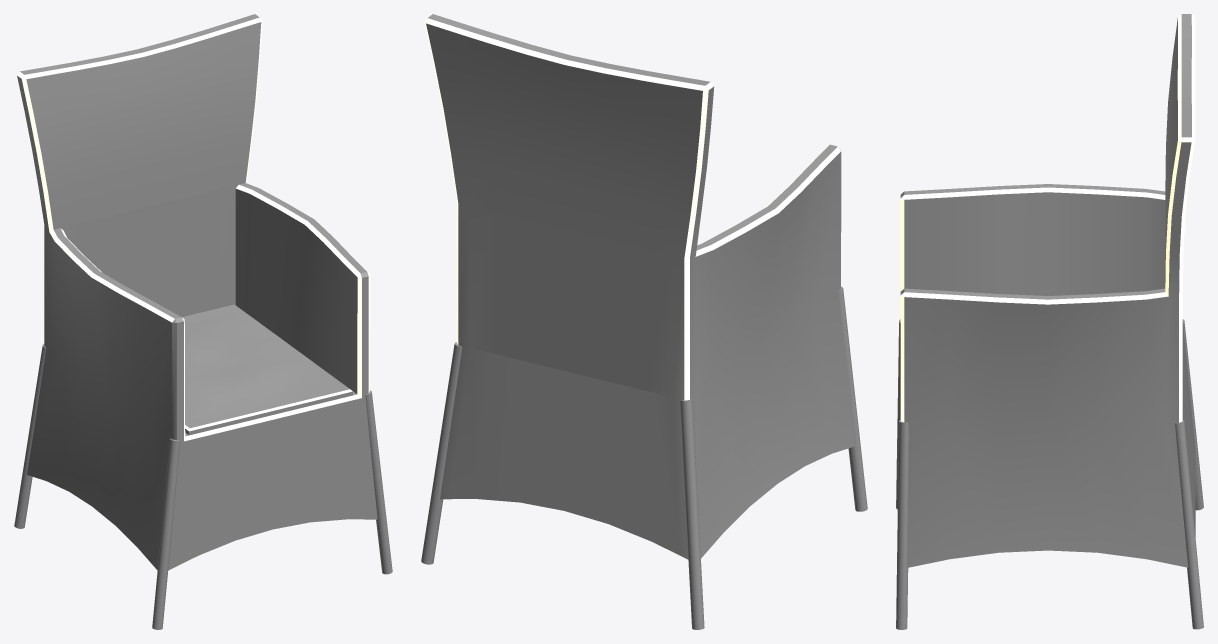
Rendered from Table_Chair.fbx.
The picture shows the model from 3 angles, left to right: view 1: azimuth 30°, elevation 25°; view 2: azimuth 150°, elevation 25°; view 3: azimuth 270°, elevation 25°; orthographic projection. The views are drawn at different scales.
Parts seen in each view (by area): view 1: Chair_Main, Chair_Cushion, Chair_LegsFront, Chair_LegsBack; view 2: Chair_Main, Chair_LegsBack, Chair_LegsFront; view 3: Chair_Main, Chair_LegsBack, Chair_LegsFront.
Part boxes in pixels (x1,y1,x2,y2): Chair_Main: [17, 14, 377, 570]; Chair_Cushion: [182, 304, 352, 435]; Chair_LegsFront: [152, 390, 392, 629]; Chair_LegsBack: [14, 344, 46, 528]; Chair_Main: [424, 14, 854, 559]; Chair_LegsBack: [421, 342, 704, 629]; Chair_LegsFront: [838, 286, 867, 511]; Chair_Main: [900, 14, 1195, 567]; Chair_LegsBack: [1175, 319, 1203, 629]; Chair_LegsFront: [896, 319, 908, 629].
Bounding box in the file's own units: 0.651 × 1.18 × 0.671.
